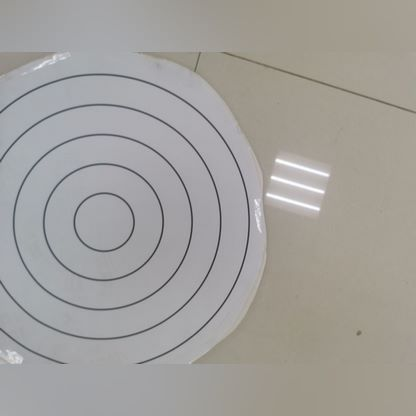circle: (5, 51, 261, 372)
